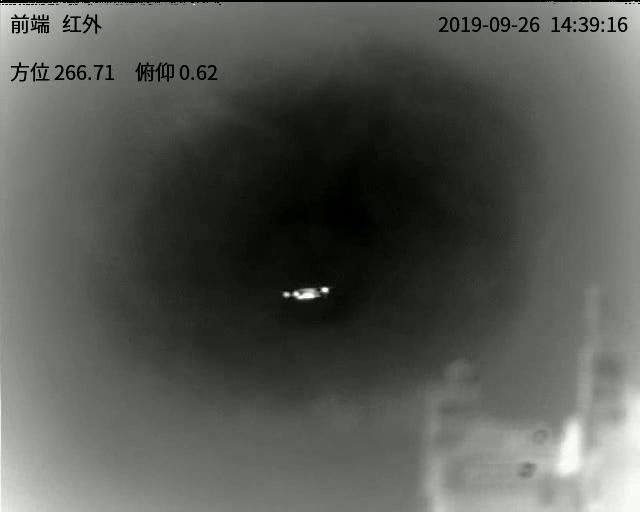DRONE: (280, 284, 333, 301)
